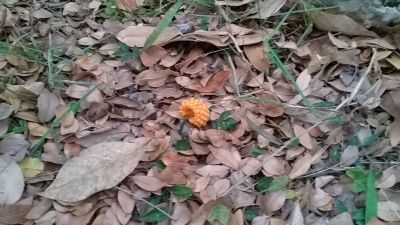eggs: (180, 98, 209, 126)
